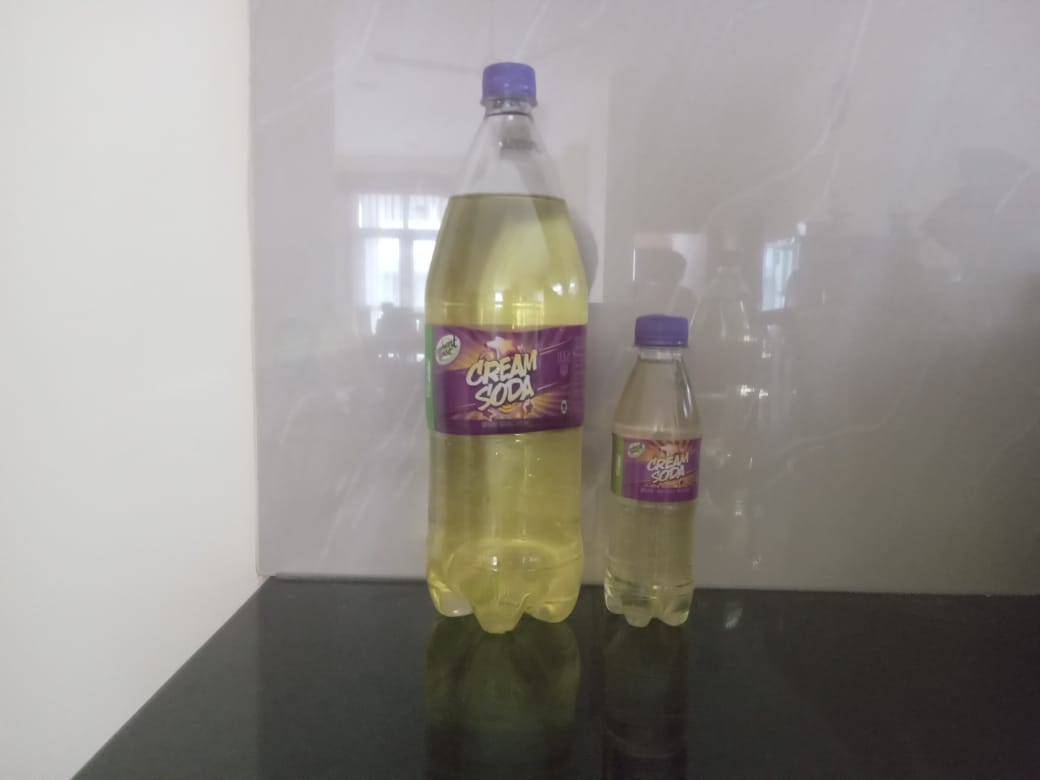L: (414, 54, 591, 638)
Xs: (599, 312, 706, 645)
